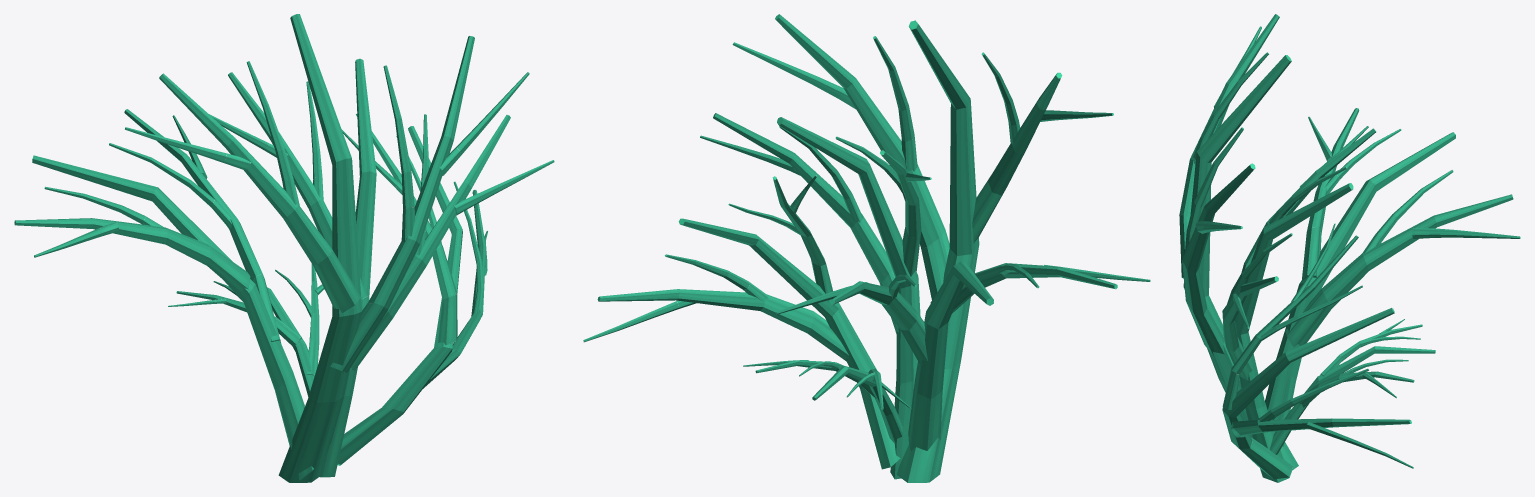
The model's file is Glow_plant02.fbx.
The picture shows the model from 3 angles, left to right: view 1: azimuth 30°, elevation 25°; view 2: azimuth 150°, elevation 25°; view 3: azimuth 270°, elevation 25°; orthographic projection. The views are drawn at different scales.
Parts seen in each view (by area): view 1: Glow_plant_02; view 2: Glow_plant_02; view 3: Glow_plant_02.
Part boxes in pixels (x1=…): Glow_plant_02: x1=14, y1=14, x2=554, y2=482; Glow_plant_02: x1=583, y1=14, x2=1150, y2=482; Glow_plant_02: x1=1179, y1=14, x2=1520, y2=482.
Bounding box in the file's own units: 0.3348 × 0.2902 × 0.2161.
Materials: 1 (1 with a texture image).
